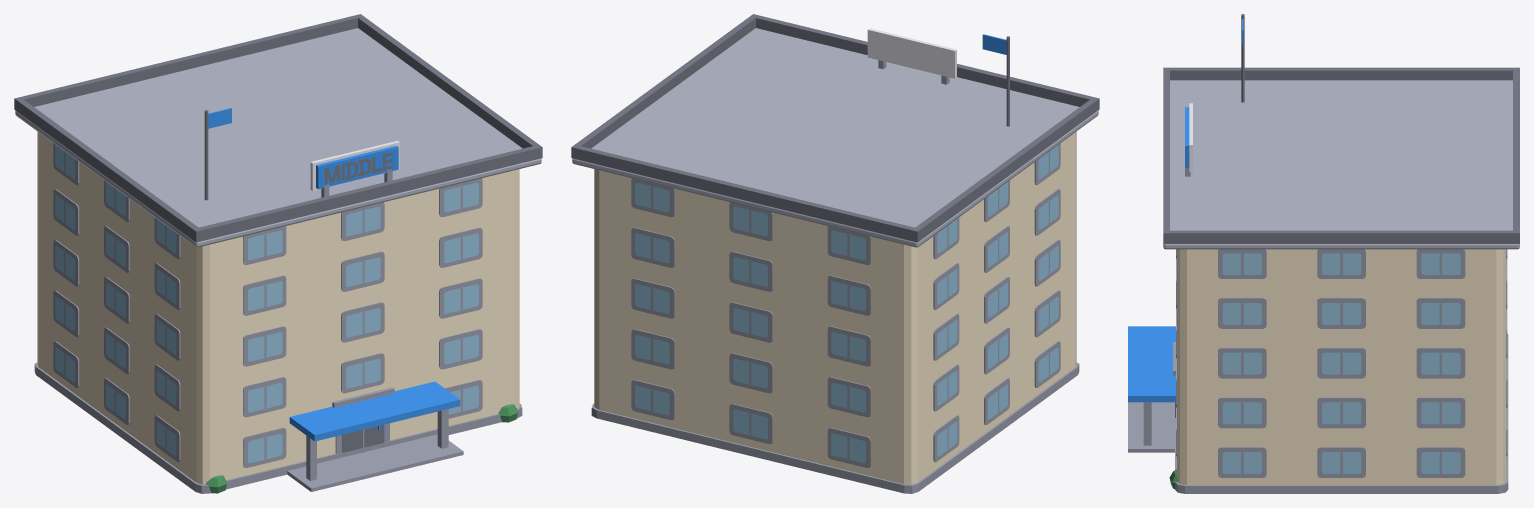
File: middle-school-2x2-5f.glb
3 views of the same model, side by side, from view 1: azimuth 30°, elevation 25°; view 2: azimuth 150°, elevation 25°; view 3: azimuth 270°, elevation 25° (orthographic). The views are drawn at different scales.
Parts seen in each view (by area): view 1: middle-school-2x2-5f; view 2: middle-school-2x2-5f; view 3: middle-school-2x2-5f.
Part boxes in pixels (x1,y1,x2,y2): middle-school-2x2-5f: (14,14,542,493); middle-school-2x2-5f: (571,14,1099,493); middle-school-2x2-5f: (1128,14,1519,493).
Bounding box in the file's own units: 2 × 1.93 × 2.
Materials: 1 (1 with a texture image).
